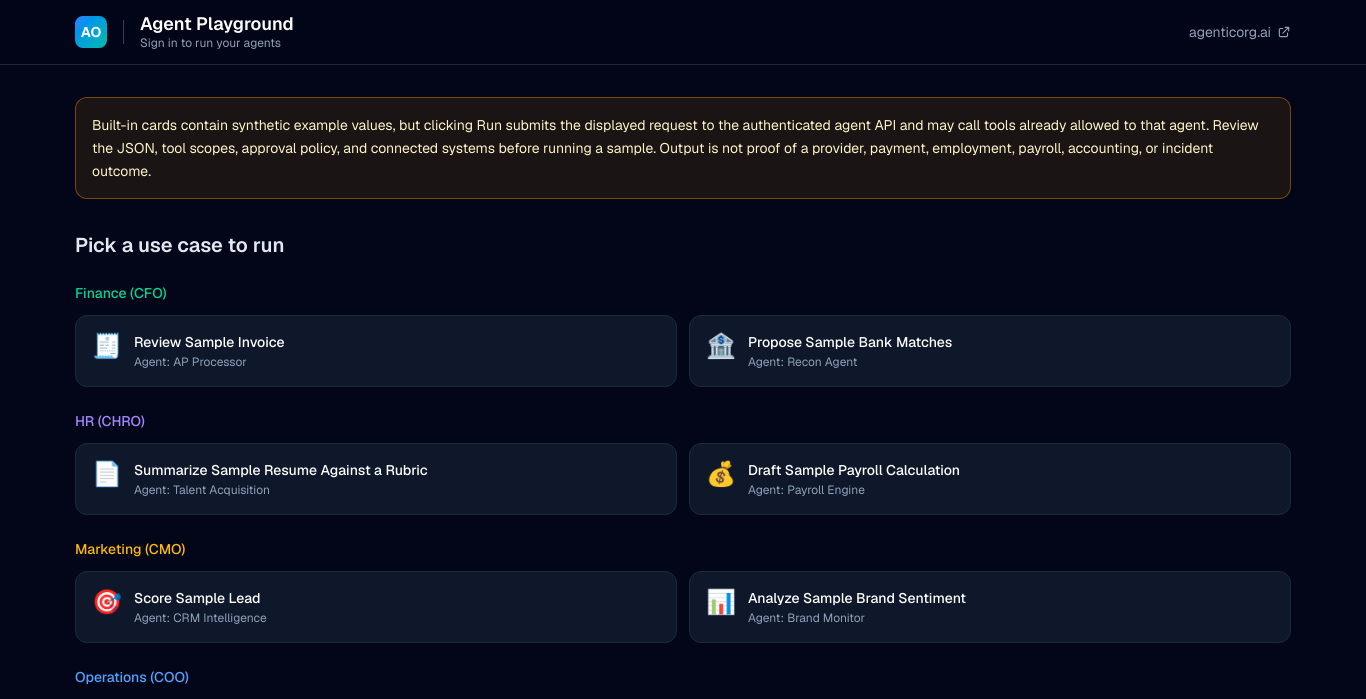
Playground cookie authentication › explains when the tenant has no agent of the requested type
Click the button "🧾 Review Sample Invoice Agent: AP Processor" at (209, 342), box [75,315,677,387]
(page scrolled)
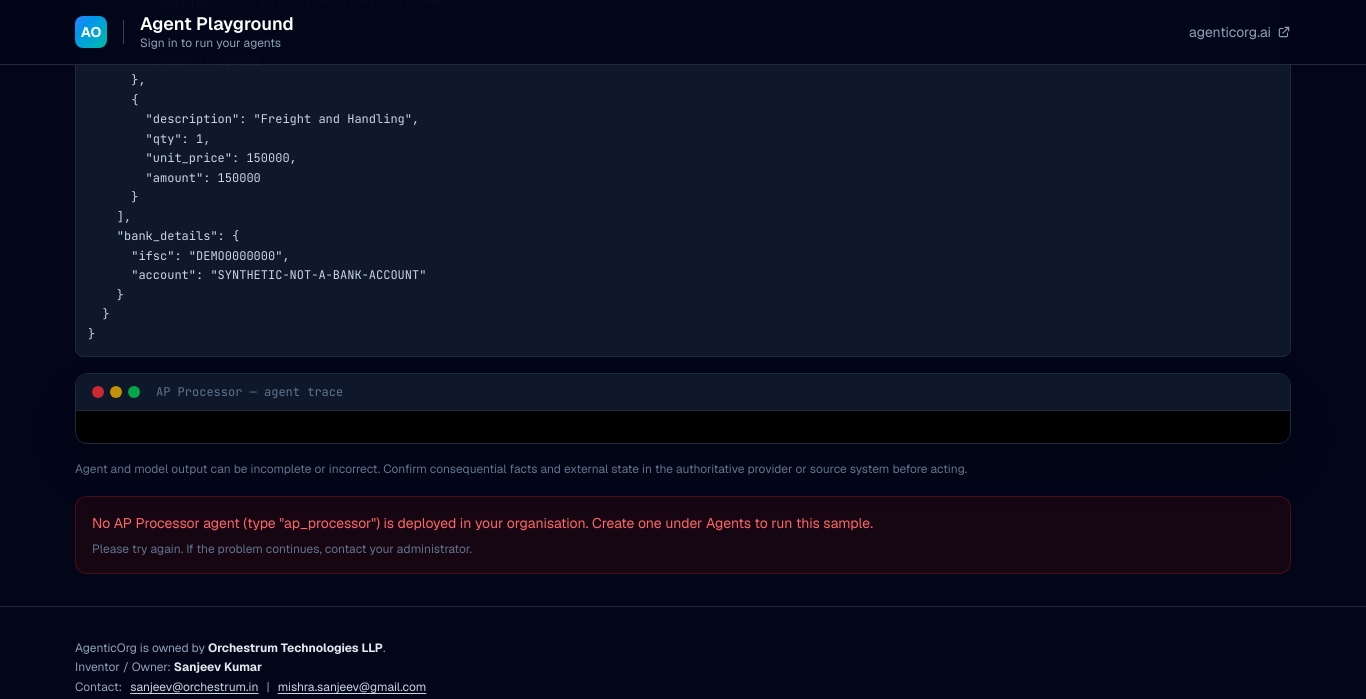
Check: the text "No AP Processor agent (type \"ap_processor\") is deployed" is shown, box [92,514,873,532]
